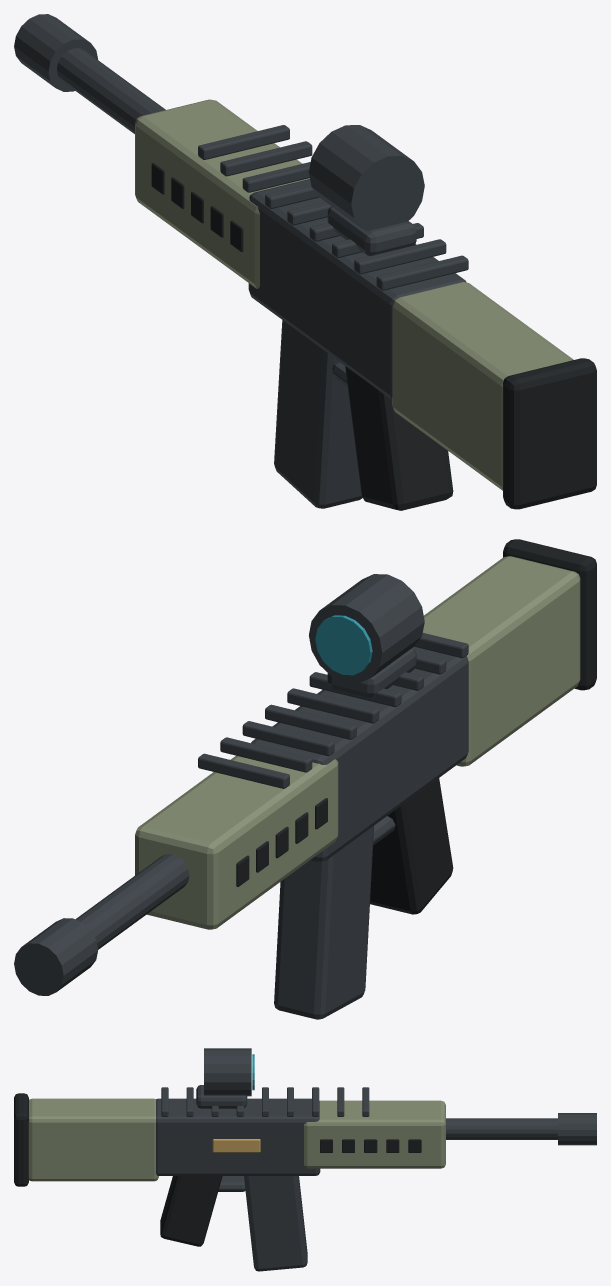
Rendered from relay-carbine.glb.
The picture shows the model from 3 angles, top to bottom: view 1: azimuth 30°, elevation 25°; view 2: azimuth 150°, elevation 25°; view 3: azimuth 270°, elevation 25°; orthographic projection. The views are drawn at different scales.
Parts seen in each view (by area): view 1: Stock, Receiver, Handguard, Shoulder pad, Magazine, Grip, Optic housing, Barrel, Muzzle brake, Optic base, Top rail 01, Top rail 07 (+5 smaller); view 2: Handguard, Stock, Receiver, Magazine, Grip, Optic housing, Muzzle brake, Barrel, Shoulder pad, Optic glass, Optic base, Top rail 04 (+6 smaller); view 3: Stock, Receiver, Handguard, Magazine, Grip, Barrel, Optic housing, Shoulder pad, Muzzle brake, Optic base, Ejection port, Trigger guard.
Boxes of the visible parts, x1=… form: Stock: x1=392, y1=282, x2=573, y2=490; Receiver: x1=248, y1=179, x2=466, y2=399; Handguard: x1=135, y1=99, x2=309, y2=288; Shoulder pad: x1=503, y1=358, x2=596, y2=509; Magazine: x1=274, y1=320, x2=362, y2=508; Grip: x1=345, y1=366, x2=453, y2=510; Optic housing: x1=309, y1=125, x2=424, y2=231; Barrel: x1=57, y1=48, x2=165, y2=133; Muzzle brake: x1=14, y1=14, x2=97, y2=91; Optic base: x1=327, y1=206, x2=416, y2=255; Top rail 01: x1=354, y1=239, x2=446, y2=274; Top rail 07: x1=220, y1=141, x2=312, y2=176; Handguard: x1=135, y1=755, x2=338, y2=929; Stock: x1=423, y1=556, x2=580, y2=766; Receiver: x1=251, y1=646, x2=468, y2=861; Magazine: x1=274, y1=826, x2=373, y2=1019; Grip: x1=370, y1=778, x2=453, y2=914; Optic housing: x1=309, y1=574, x2=424, y2=682; Muzzle brake: x1=14, y1=918, x2=97, y2=995; Barrel: x1=75, y1=854, x2=189, y2=949; Shoulder pad: x1=503, y1=539, x2=596, y2=690; Optic glass: x1=315, y1=615, x2=372, y2=675; Optic base: x1=327, y1=648, x2=416, y2=697; Top rail 04: x1=287, y1=688, x2=379, y2=723; Stock: x1=28, y1=1098, x2=158, y2=1181; Receiver: x1=156, y1=1098, x2=320, y2=1175; Handguard: x1=304, y1=1100, x2=445, y2=1168; Magazine: x1=244, y1=1176, x2=307, y2=1271; Grip: x1=160, y1=1176, x2=222, y2=1246; Barrel: x1=446, y1=1118, x2=557, y2=1139; Optic housing: x1=204, y1=1048, x2=251, y2=1096; Shoulder pad: x1=14, y1=1093, x2=28, y2=1186; Muzzle brake: x1=558, y1=1113, x2=596, y2=1145; Optic base: x1=196, y1=1085, x2=247, y2=1108; Ejection port: x1=212, y1=1139, x2=260, y2=1152; Trigger guard: x1=218, y1=1176, x2=245, y2=1191.
Size of the model in its own units: 0.095 by 0.3982 by 0.975.
